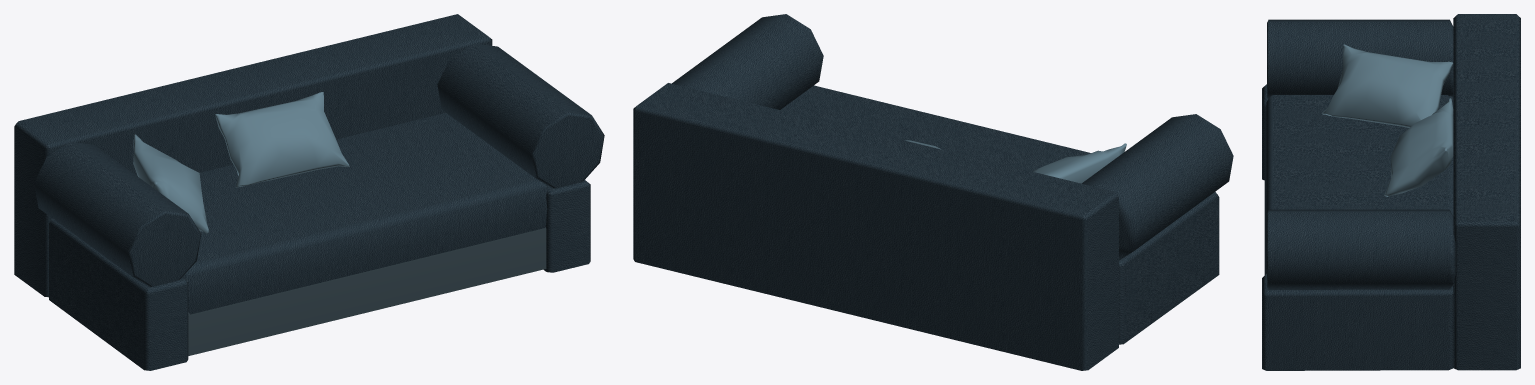
The model's file is sofa_006.fbx.
3 views of the same model, side by side, from view 1: azimuth 30°, elevation 25°; view 2: azimuth 150°, elevation 25°; view 3: azimuth 270°, elevation 25° (orthographic). The views are drawn at different scales.
Parts seen in each view (by area): view 1: sofa_006; view 2: sofa_006; view 3: sofa_006.
Part boxes in pixels (x1,y1,x2,y2): sofa_006: (14,14,604,370); sofa_006: (633,14,1233,370); sofa_006: (1262,14,1520,370).
Size of the model in its own units: 293 by 143 by 90.26.
